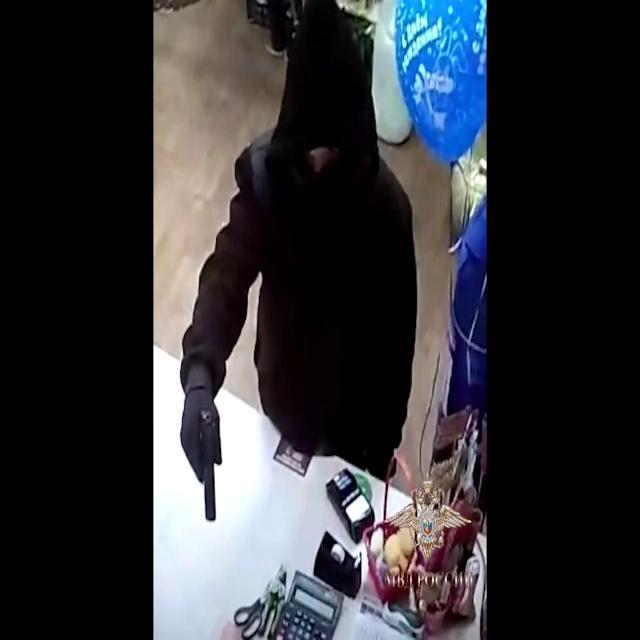pistol: (177, 366, 221, 523)
